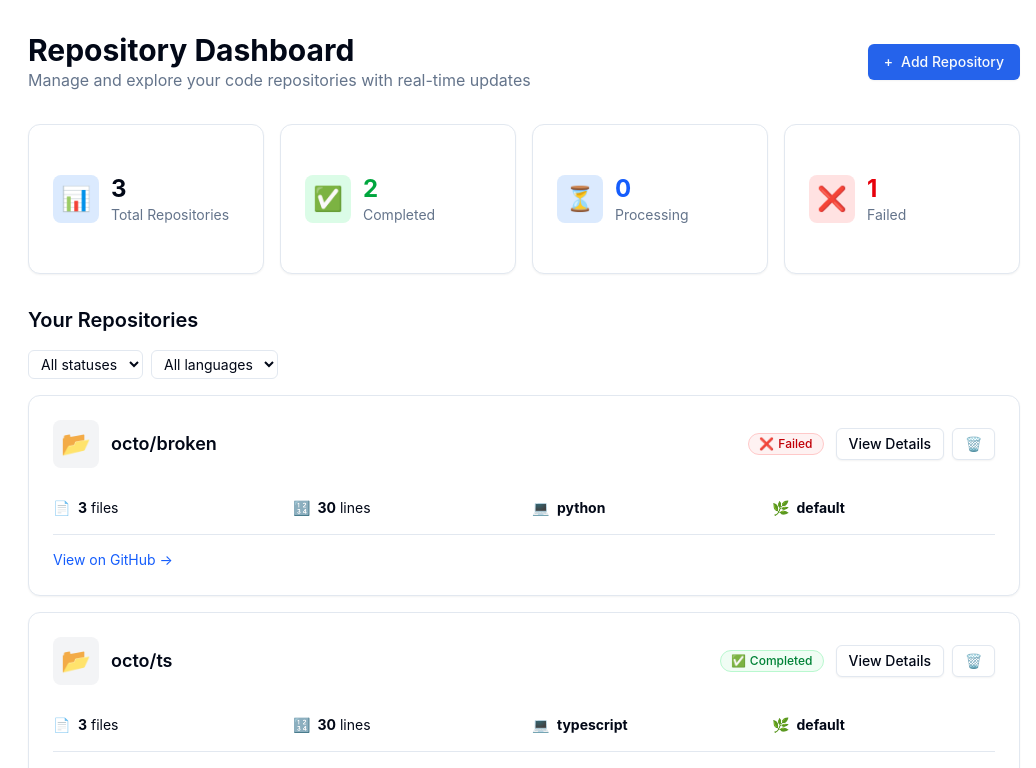
Test: DashboardPage › filters by status and language and keeps both in the URL
The width and height of the screenshot is (1036, 768).
Expected: the text "octo/ts" is shown, [111,647,172,675]
Select "python" in the dropdown named "Filter by language" at (214, 364), box [151,350,278,379]
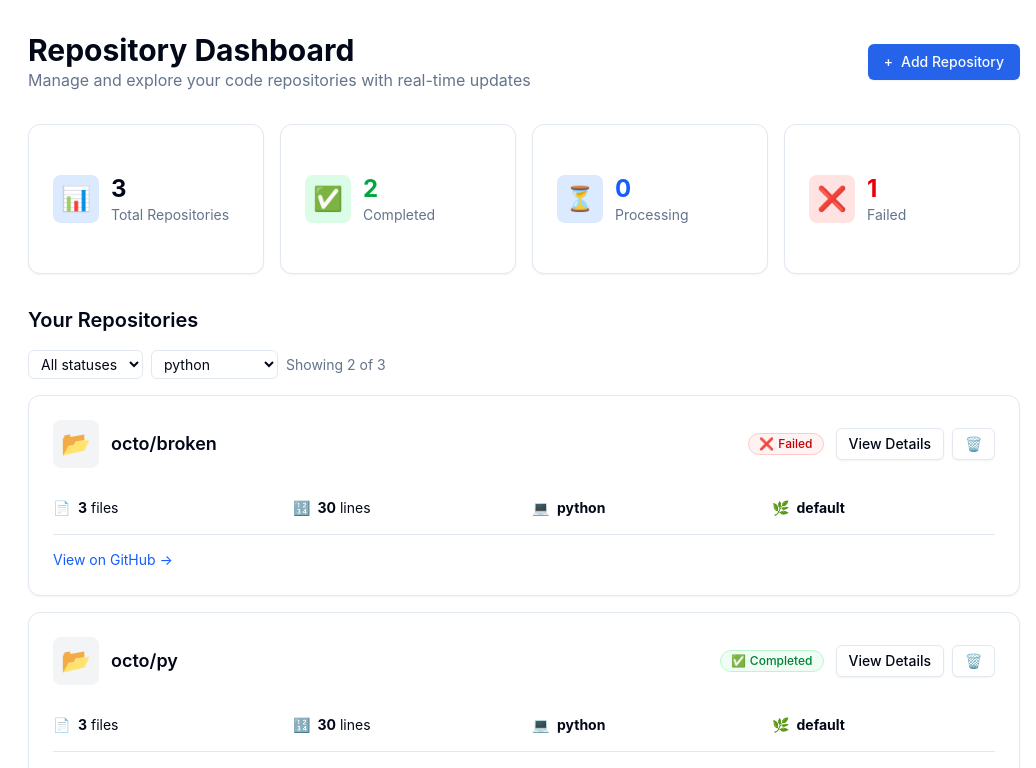
Expected: the text "octo/py" is shown, [111,647,178,675]
Result: the text "octo/ts" is gone
Select "Failed" in the dropdown named "Filter by status" at (86, 364), box [28,350,143,379]
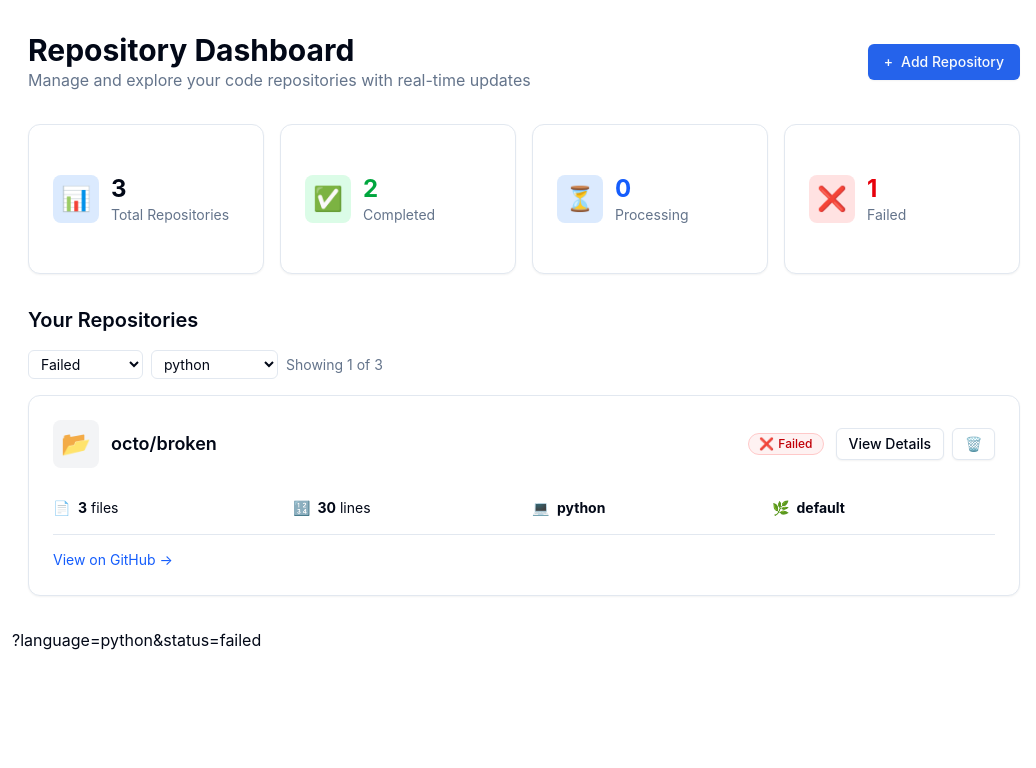
Result: the text "octo/py" is gone
Result: the text "Showing 1 of 3" is shown at [286,354,383,374]
Result: the text with test id "location" reads "?language=python&status=failed" at [12,630,261,650]
Select "All languages" in the dropdown named "Filter by language" at (214, 364), box [151,350,278,379]
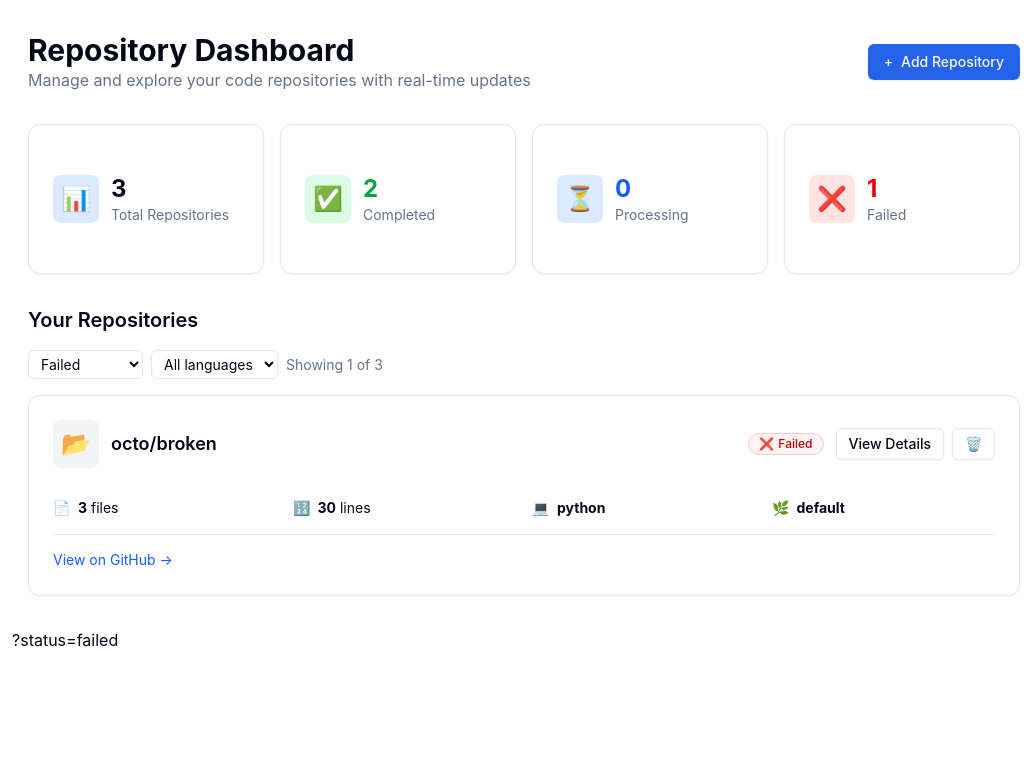
Result: the text with test id "location" reads "?status=failed" at [12,630,118,650]
